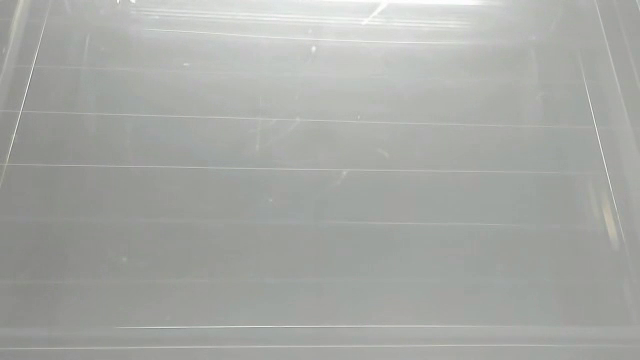alpha: (358, 1, 391, 28)
